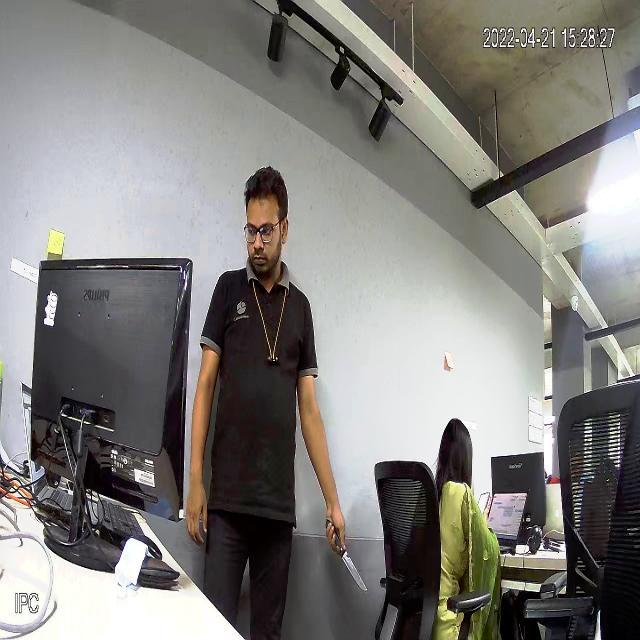Knife: (322, 507, 371, 591)
